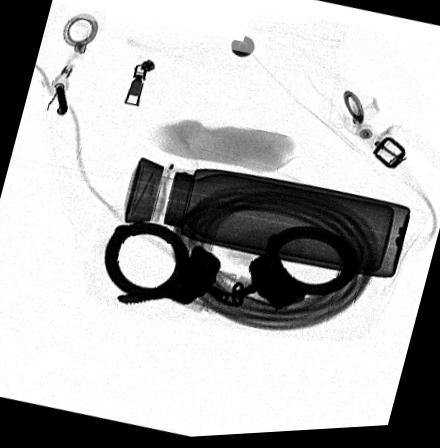HandCuffs: (103, 220, 360, 312)
